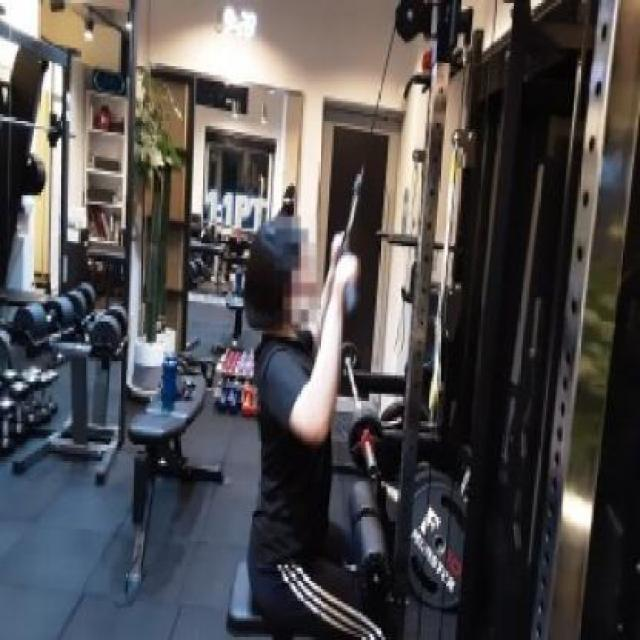Lat Pull Down: (215, 0, 640, 640)
